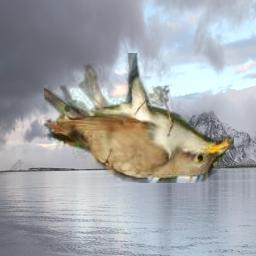Cuckoo: (44, 53, 234, 183)
